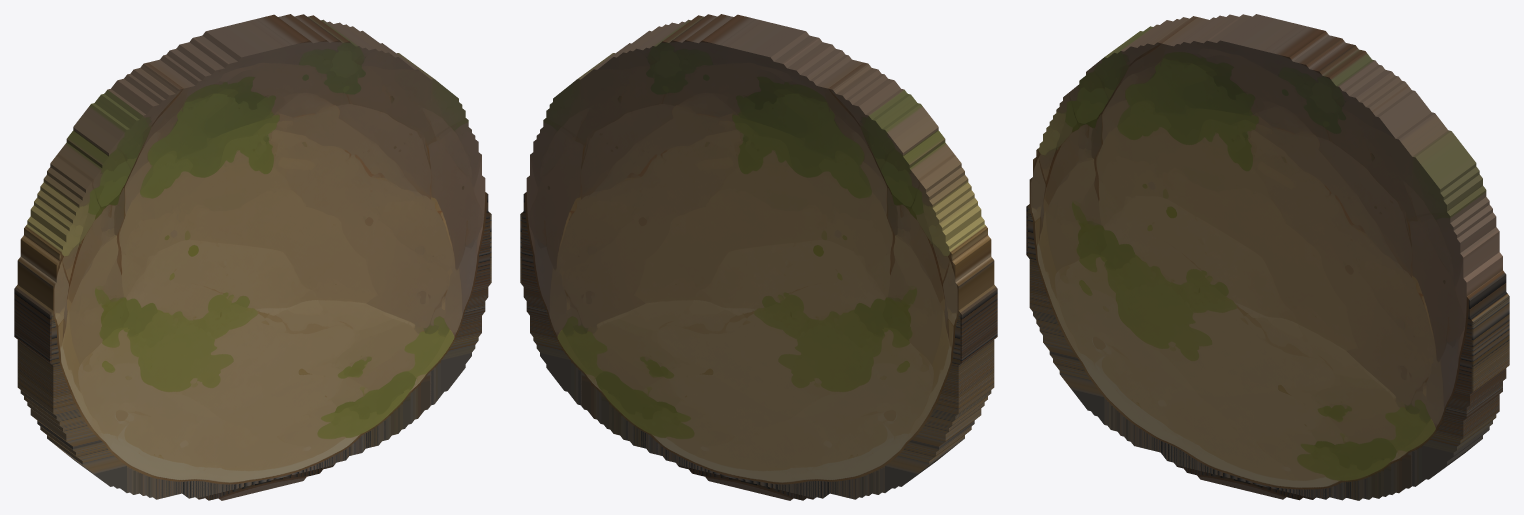
Rendered from boulder.glb.
3 views of the same model, side by side, from view 1: azimuth 30°, elevation 25°; view 2: azimuth 150°, elevation 25°; view 3: azimuth 330°, elevation 25° (orthographic).
Visible parts, largest first — view 1: world; view 2: world; view 3: world.
Boxes of the visible parts, x1,y1,x2,y2 form: world: (14,14,491,500); world: (520,14,997,500); world: (1026,14,1509,500).
Size of the model in its own units: 1.58 by 1.5 by 0.2213.
Materials: 1 (1 with a texture image).
